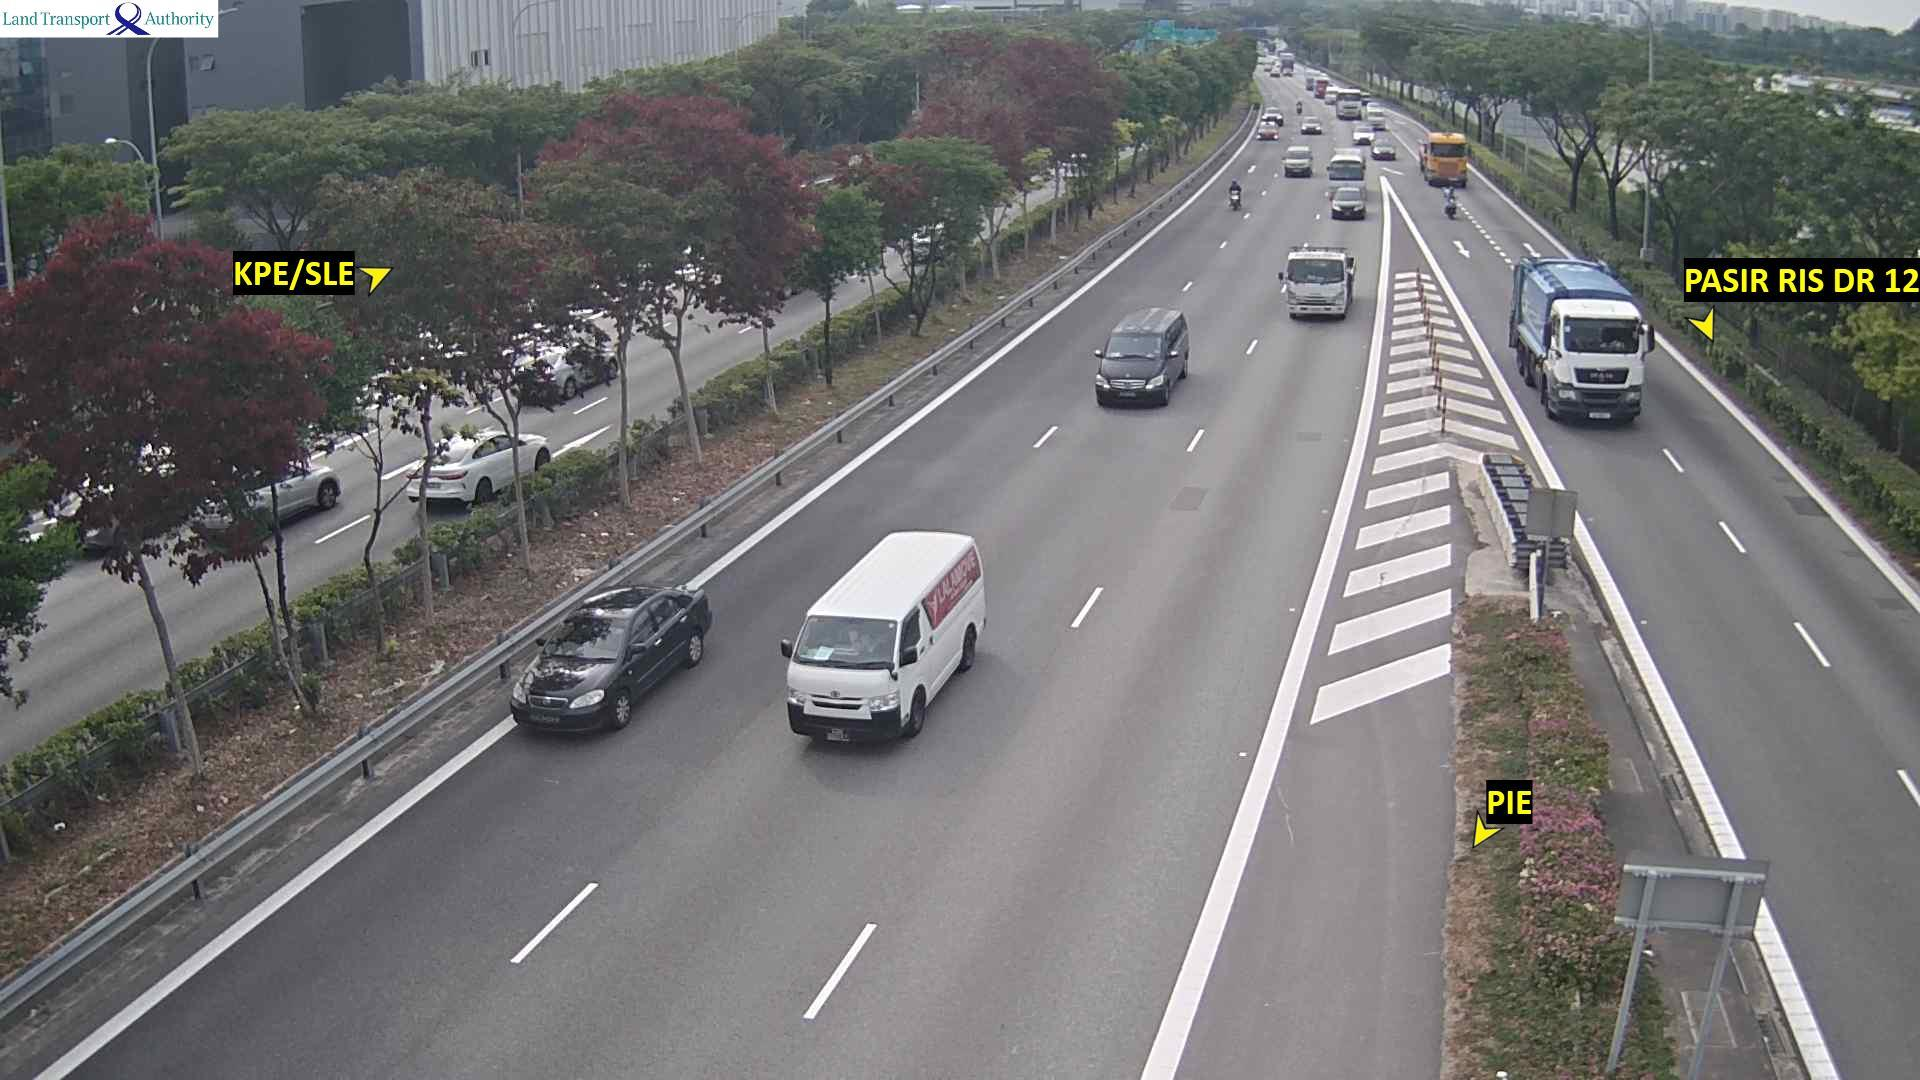cars: (779, 527, 986, 745), (508, 582, 712, 735), (189, 456, 340, 538), (404, 429, 550, 506), (496, 316, 618, 404), (1092, 305, 1189, 407), (1276, 243, 1356, 320), (1325, 148, 1366, 187), (1329, 182, 1366, 219), (1280, 144, 1313, 177), (1328, 146, 1365, 169), (1336, 90, 1364, 119), (1364, 102, 1387, 131), (1371, 137, 1396, 160), (1352, 123, 1374, 145), (1255, 117, 1278, 138), (1300, 115, 1323, 135), (1262, 105, 1283, 124), (1323, 86, 1338, 104), (1269, 67, 1283, 79)
motorcycle: (1443, 185, 1458, 219), (1226, 179, 1242, 208), (1292, 96, 1308, 119)
trucks: (1507, 252, 1654, 425), (1418, 131, 1468, 187)
